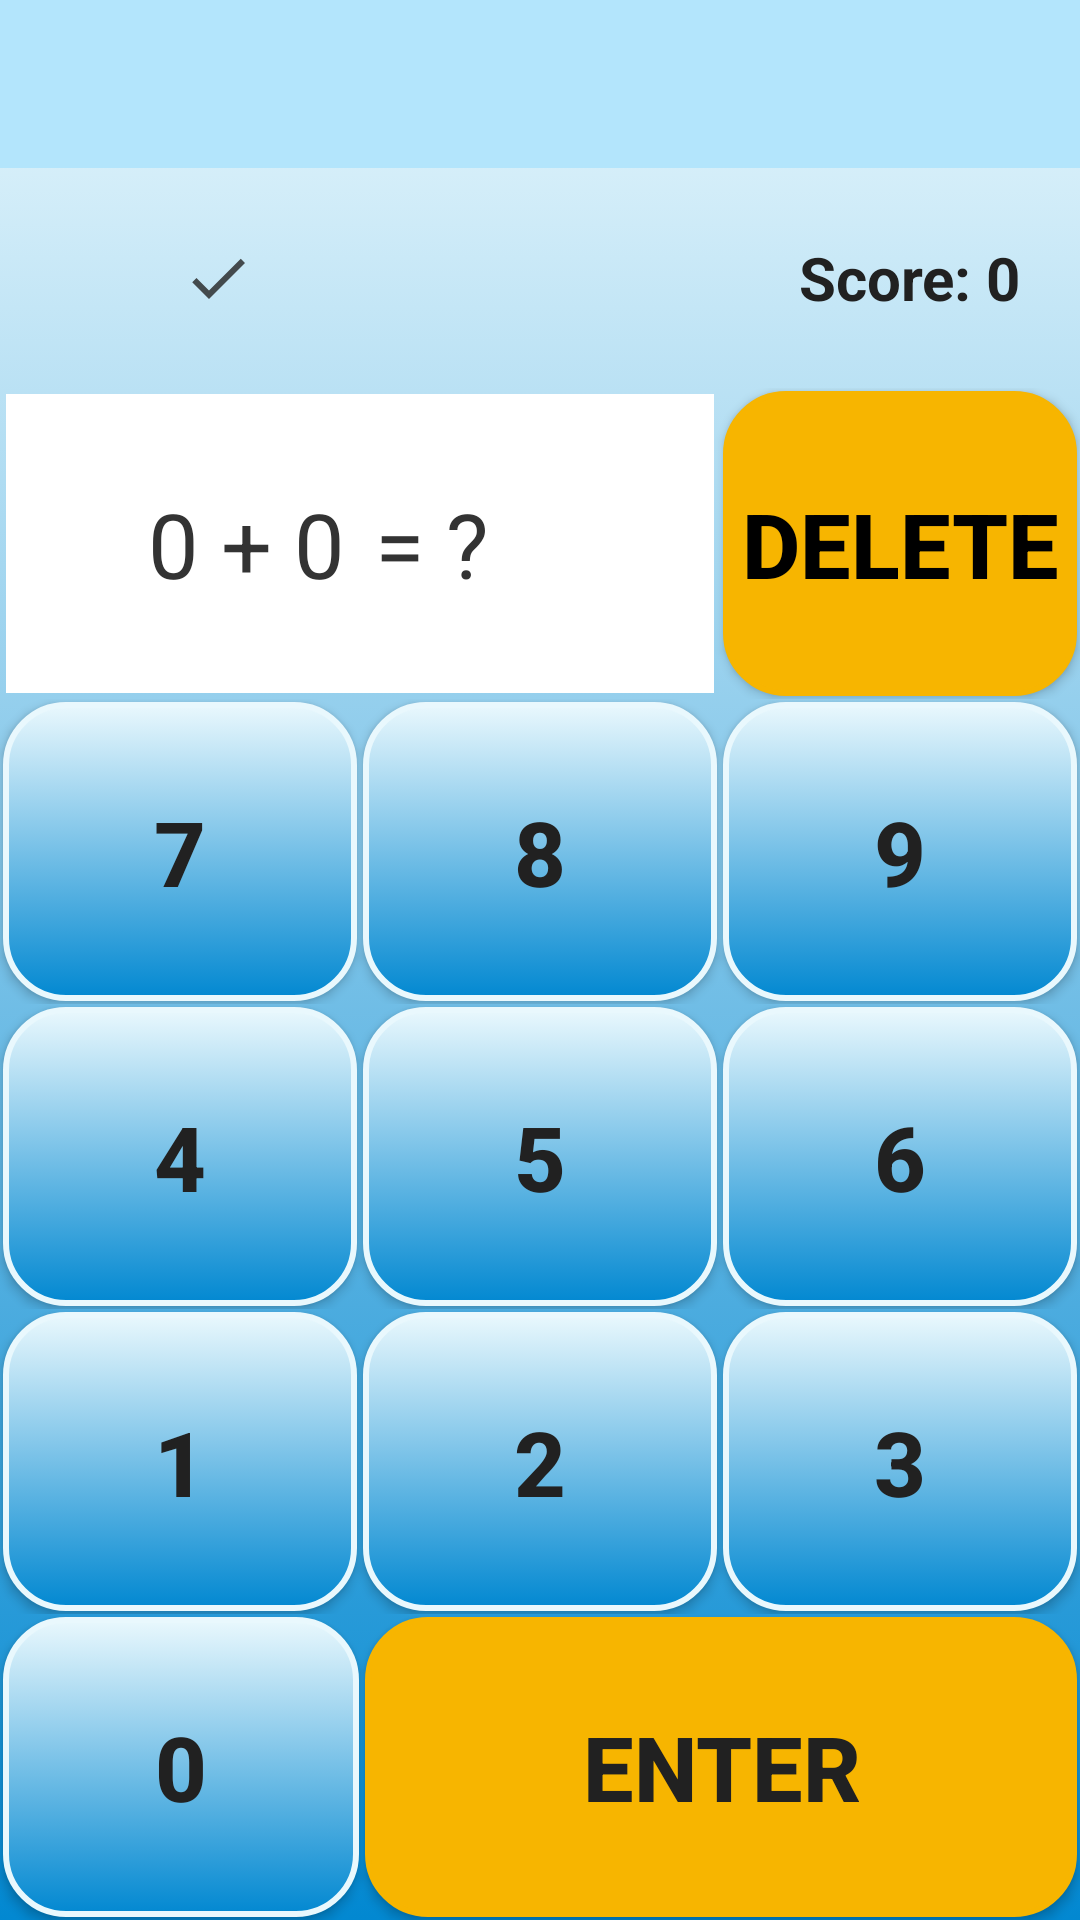

Where icons sit on this 1080px×1920px app screen, as (x1, y1, x2, y2):
result: (192, 259, 245, 299)
